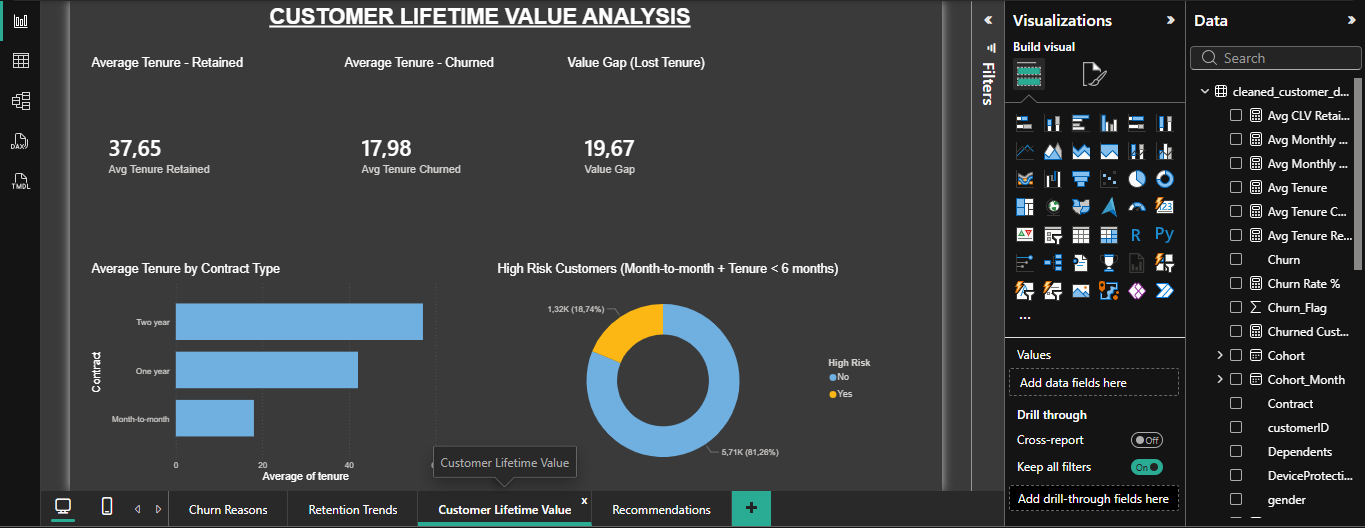

Layout of this report page (visuals, bound fields, positions):
{"tool":"powerbi","page":{"name":"Customer Lifetime Value","canvas":[1280,720],"ordinal":2},"visuals":[{"type":"textbox","box":[288,0,678.9,63.2],"z":0},{"type":"cardVisual","title":"Average Tenure - Retained","fields":{"Data":["cleaned_customer_data.Avg Tenure Retained"]},"box":[26.9,79.2,300.2,268.9],"z":1000},{"type":"cardVisual","title":"Average Tenure - Churned","fields":{"Data":["cleaned_customer_data.Avg Tenure Churned"]},"box":[398.8,79.2,300.2,268.9],"z":2000},{"type":"cardVisual","title":"Value Gap (Lost Tenure)","fields":{"Data":["cleaned_customer_data.Value Gap"]},"box":[726,79.2,300.2,268.9],"z":3000},{"type":"barChart","title":"Average Tenure by Contract Type","fields":{"Category":["cleaned_customer_data.Contract"],"Y":["Avg(cleaned_customer_data.tenure)"]},"box":[26.9,382.4,522.8,330.1],"z":4000},{"type":"donutChart","title":"High Risk Customers (Month-to-month + Tenure < 6 months)","fields":{"Category":["cleaned_customer_data.High Risk"],"Y":["CountNonNull(cleaned_customer_data.customerID)"]},"box":[622.9,382.4,576.6,330.1],"z":5000}]}

Visuals, with their boxes on the page's 1280x720 design canvas (x1, y1, x2, y2). These are canvas units, not pixel positions in the 1365x528 screenshot, which may show the page scaled, cropped or inside an application window:
textbox: 288:0:967:63
"Average Tenure - Retained" cardVisual: 27:79:327:348
"Average Tenure - Churned" cardVisual: 399:79:699:348
"Value Gap (Lost Tenure)" cardVisual: 726:79:1026:348
"Average Tenure by Contract Type" barChart: 27:382:550:712
"High Risk Customers (Month-to-month + Tenure < 6 months)" donutChart: 623:382:1200:712
